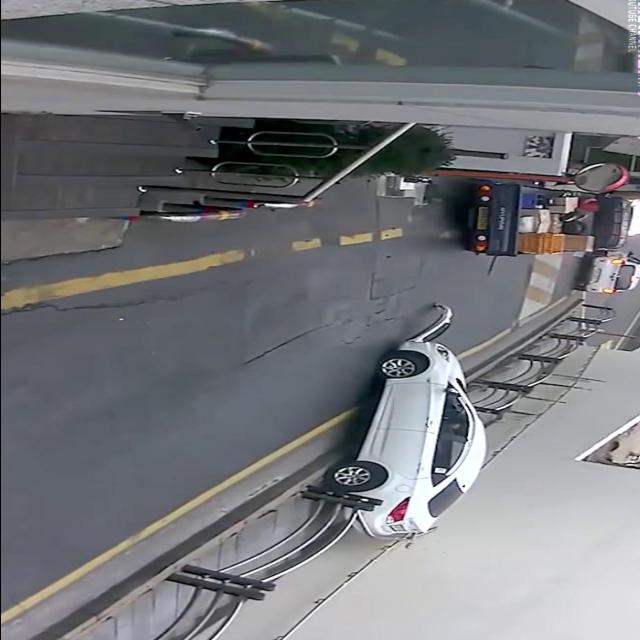accident: (312, 294, 500, 552)
non_accident: (439, 170, 640, 300)
